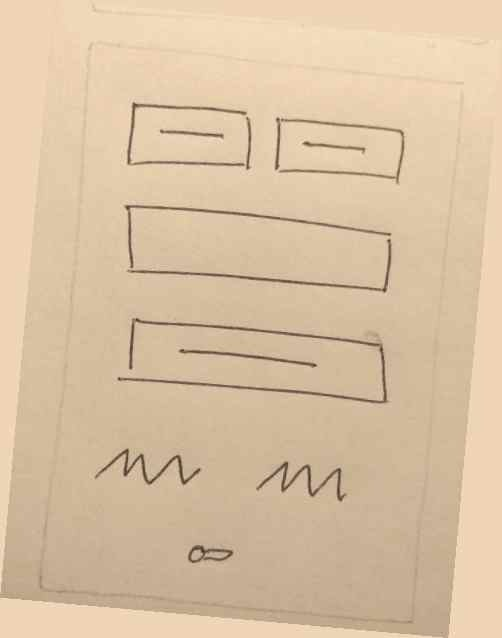button: (109, 307, 409, 414), (111, 89, 271, 184), (271, 108, 420, 193)
switch: (176, 530, 248, 572)
text: (78, 427, 218, 501), (250, 446, 357, 511)
text_input: (109, 197, 408, 304)
